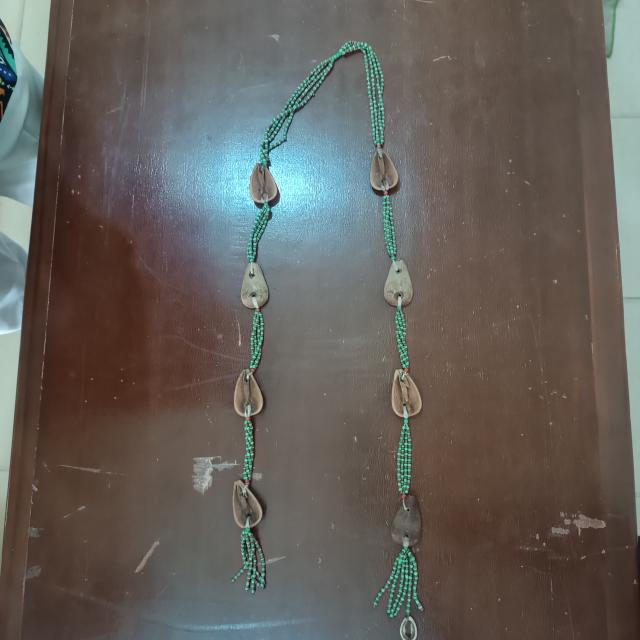facedown: (389, 492, 425, 551), (383, 254, 416, 310), (240, 258, 272, 312)
faceup: (231, 363, 267, 422), (230, 476, 265, 534), (388, 366, 423, 420), (367, 143, 400, 195), (247, 157, 281, 206)
